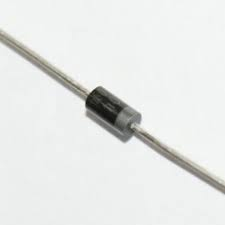diode: (61, 75, 178, 162)
